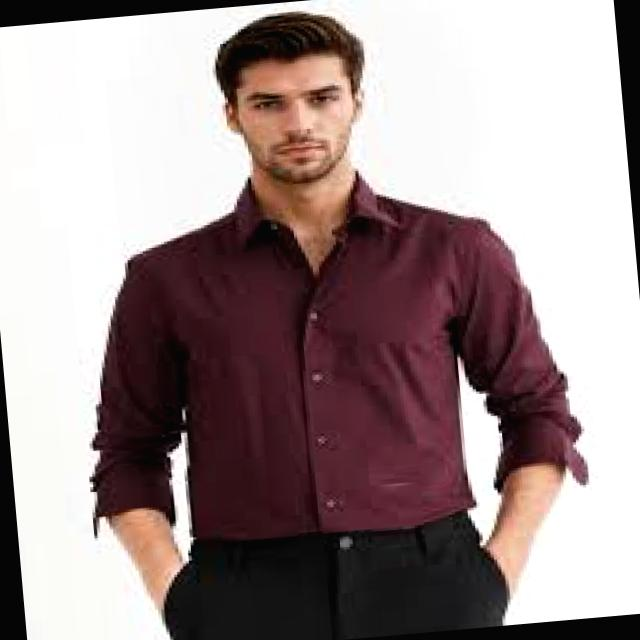face: (225, 53, 362, 184)
lower-wear: (162, 512, 510, 639)
top-wear: (90, 172, 589, 539)
